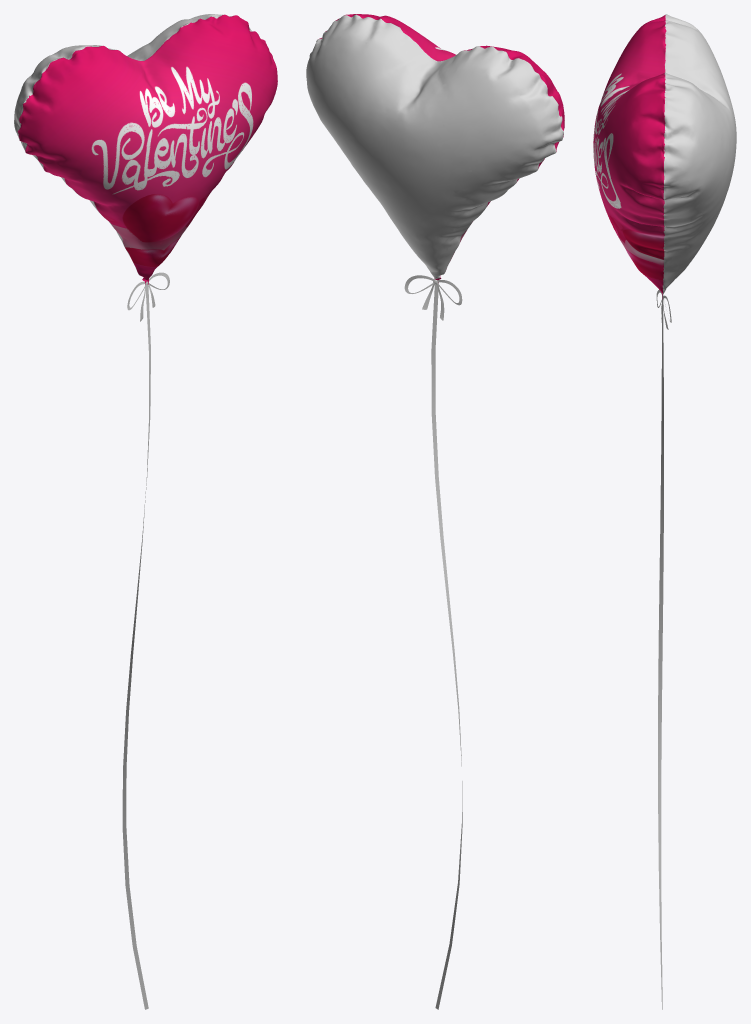
3 renders of one model, left to right at view 1: azimuth 30°, elevation 25°; view 2: azimuth 150°, elevation 25°; view 3: azimuth 270°, elevation 25°, orthographic. The views are drawn at different scales.
Visible parts, largest first — view 1: Valentines-Heart-3; view 2: Valentines-Heart-3; view 3: Valentines-Heart-3.
Part boxes in pixels (box(x1,y1,x2,y2)): Valentines-Heart-3: box(14, 14, 277, 1009); Valentines-Heart-3: box(306, 14, 564, 1009); Valentines-Heart-3: box(593, 14, 736, 1009).
Size of the model in its own units: 49.11 by 179 by 24.19.
Materials: 3 (1 with a texture image).
